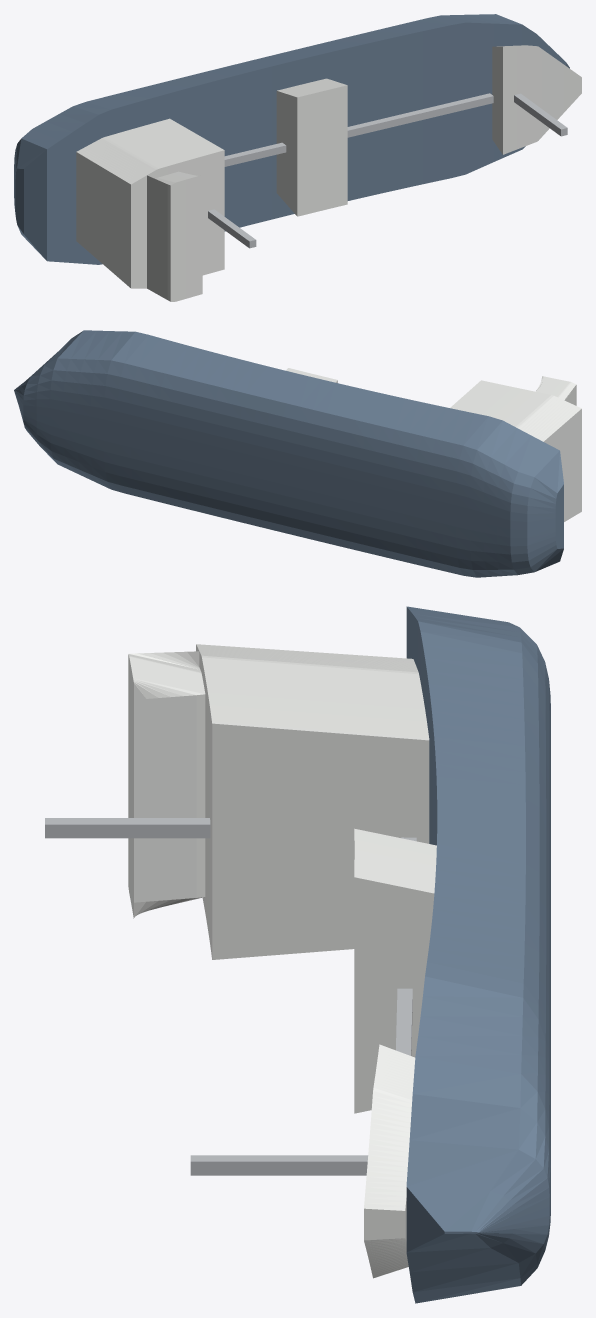
Rendered from loft-tanker-sheered.glb.
3 views of the same model, one above another, from view 1: azimuth 30°, elevation 25°; view 2: azimuth 150°, elevation 25°; view 3: azimuth 270°, elevation 25° (orthographic). The views are drawn at different scales.
Visible parts, largest first — view 1: tanker-loft-sheered; view 2: tanker-loft-sheered; view 3: tanker-loft-sheered.
Boxes of the visible parts, left/top/right/bottom form: tanker-loft-sheered: left=14, top=14, right=581, bottom=301; tanker-loft-sheered: left=14, top=330, right=581, bottom=577; tanker-loft-sheered: left=45, top=606, right=550, bottom=1303.
Size of the model in its own units: 1.96 by 0.525 by 0.7934.
